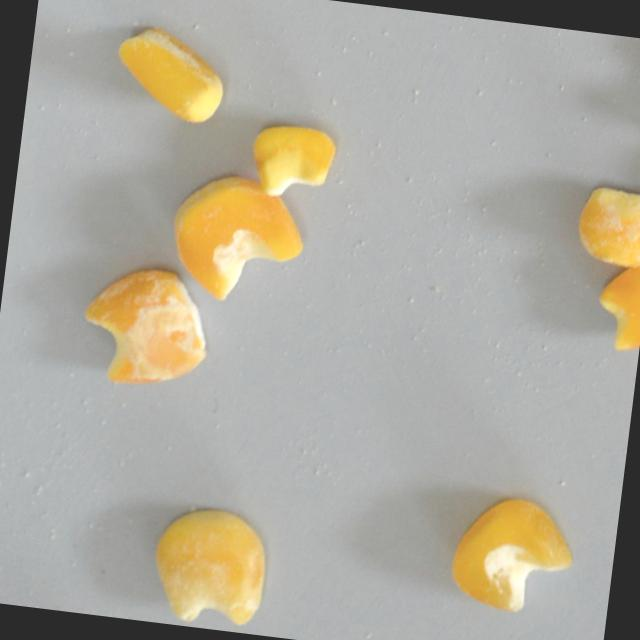estandar: (106, 22, 230, 124)
no_canjicado: (163, 169, 310, 309), (443, 490, 579, 619), (245, 120, 337, 203), (591, 256, 640, 353)
pelicula: (71, 255, 217, 398), (145, 500, 273, 629), (571, 183, 640, 267)
